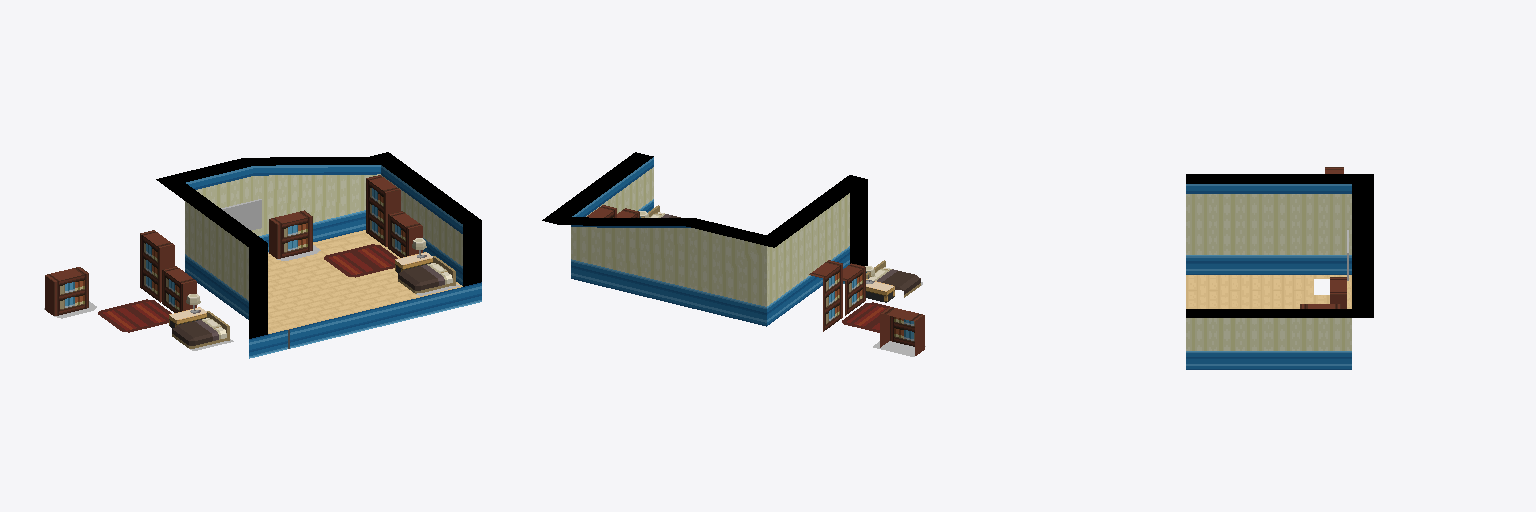
3 views of the same model, side by side, from view 1: azimuth 30°, elevation 25°; view 2: azimuth 150°, elevation 25°; view 3: azimuth 270°, elevation 25° (orthographic).
Visible parts, largest first — view 1: polygon16, polygon14, polygon15, polygon13, polygon2, polygon9, polygon7, polygon0, polygon8, polygon1; view 2: polygon16, polygon13, polygon14, polygon2, polygon1, polygon0; view 3: polygon16, polygon14, polygon13, polygon15, polygon9.
Boxes of the visible parts, <box> form: polygon16: <box>185,174,462,300</box>; polygon14: <box>185,165,481,358</box>; polygon15: <box>268,230,462,333</box>; polygon13: <box>156,152,481,338</box>; polygon2: <box>45,230,196,315</box>; polygon9: <box>269,175,422,258</box>; polygon7: <box>324,244,397,277</box>; polygon0: <box>98,299,171,332</box>; polygon8: <box>398,238,455,293</box>; polygon1: <box>172,294,229,348</box>; polygon16: <box>571,167,849,306</box>; polygon13: <box>542,152,867,265</box>; polygon14: <box>571,157,866,326</box>; polygon2: <box>809,260,924,355</box>; polygon1: <box>865,260,920,297</box>; polygon0: <box>842,302,889,332</box>; polygon16: <box>1186,194,1351,350</box>; polygon14: <box>1186,184,1351,369</box>; polygon13: <box>1186,174,1373,317</box>; polygon15: <box>1186,275,1351,308</box>; polygon9: <box>1300,277,1346,308</box>.
Size of the model in its own units: 4.77 by 1.41 by 2.16.
13 materials, 9 textured.